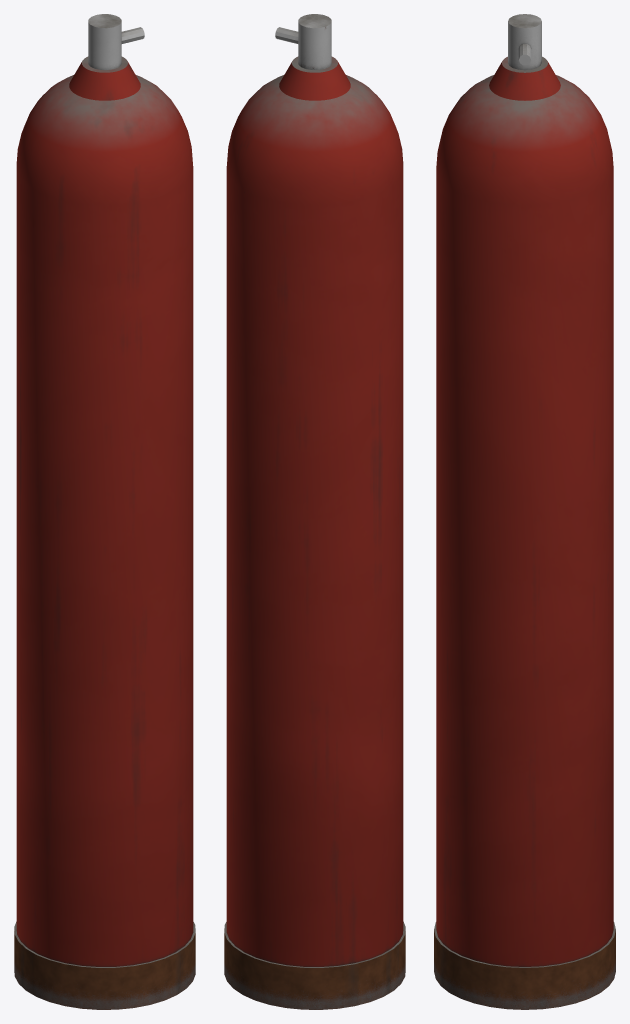
The model's file is SM_GasCylinder_Propane.fbx.
3 views of the same model, side by side, from view 1: azimuth 30°, elevation 25°; view 2: azimuth 150°, elevation 25°; view 3: azimuth 270°, elevation 25° (orthographic).
Parts seen in each view (by area): view 1: SM_GasCylinder_Propane; view 2: SM_GasCylinder_Propane; view 3: SM_GasCylinder_Propane.
Boxes of the visible parts, x1,y1,x2,y2 form: SM_GasCylinder_Propane: (14, 14, 195, 1009); SM_GasCylinder_Propane: (224, 14, 405, 1009); SM_GasCylinder_Propane: (434, 14, 615, 1009).
Size of the model in its own units: 0.236 by 1.36 by 0.236.
Materials: 1 (1 with a texture image).
